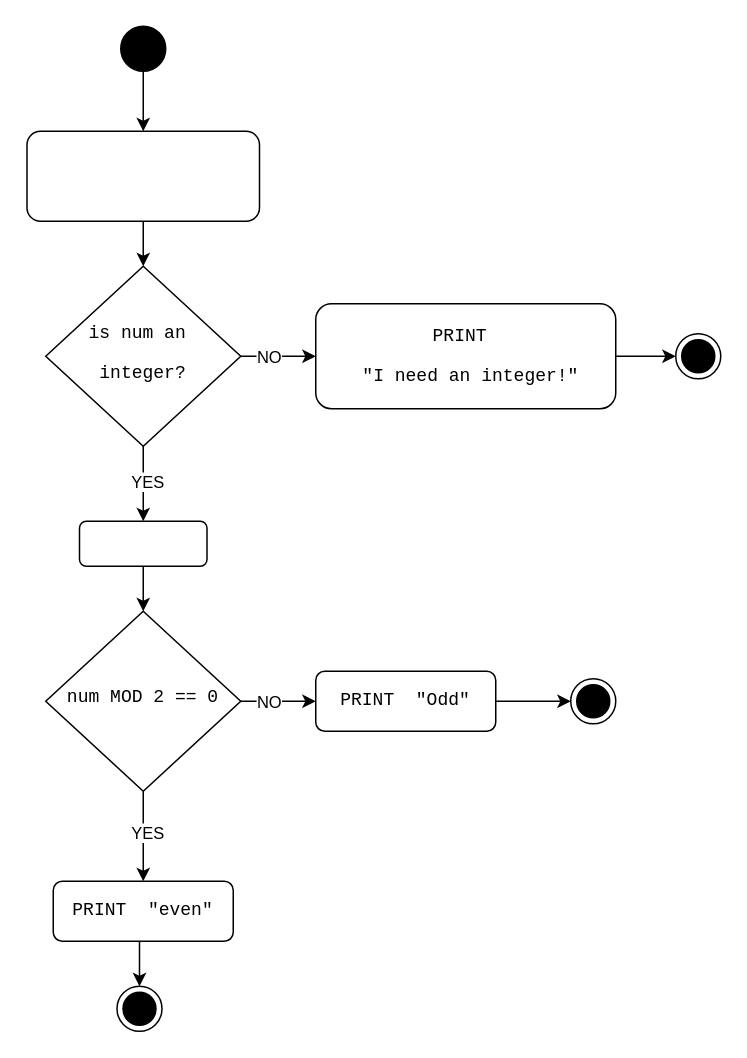
This 747x1058 diagram has some shape labels left out. Here are the shapes that lost their labels. From the top down, the centre of each, then its label:
At pixel 143 175: "READ num:float".
At pixel 142 543: "CAST num : int".
